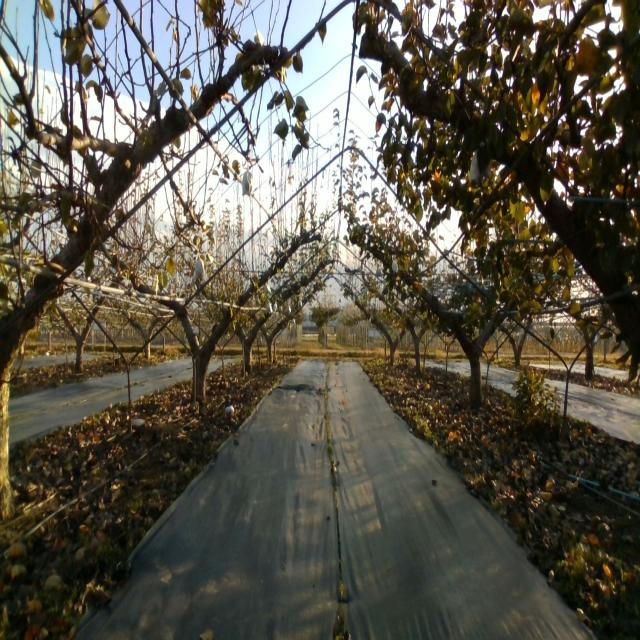pearbags: (192, 251, 207, 282), (241, 163, 254, 196)
